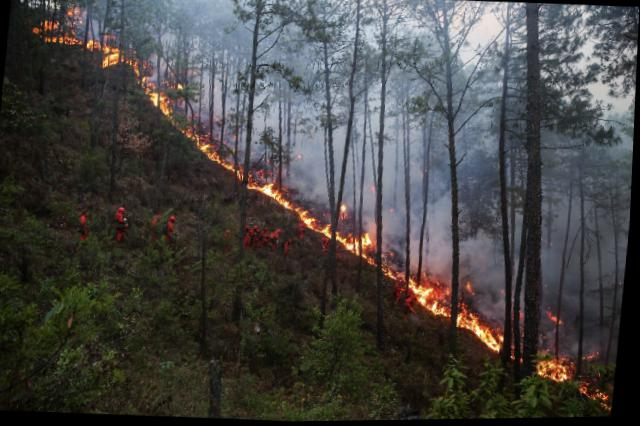fire: (10, 0, 639, 417)
